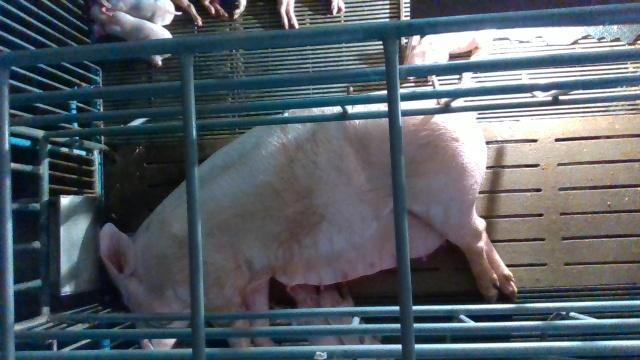piglet: (319, 280, 395, 360), (270, 283, 344, 360), (90, 0, 173, 67), (404, 29, 492, 81), (98, 0, 182, 26)
sow-sleep-lactate: (99, 88, 517, 351)
